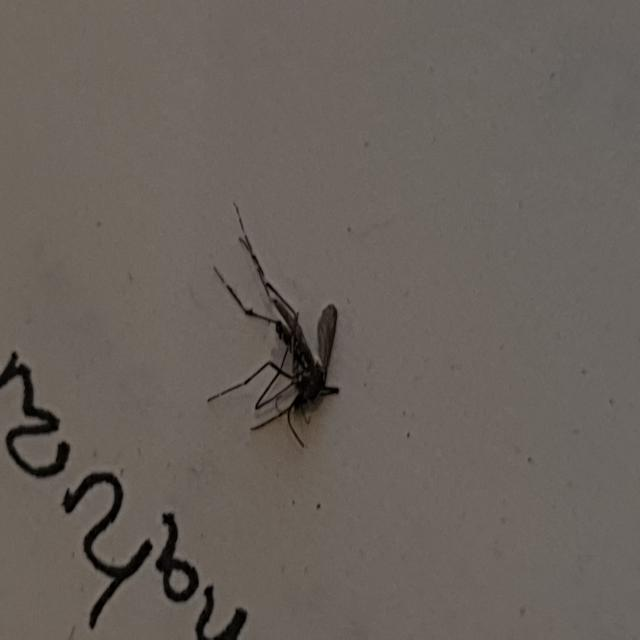albopictus: (197, 182, 348, 457)
